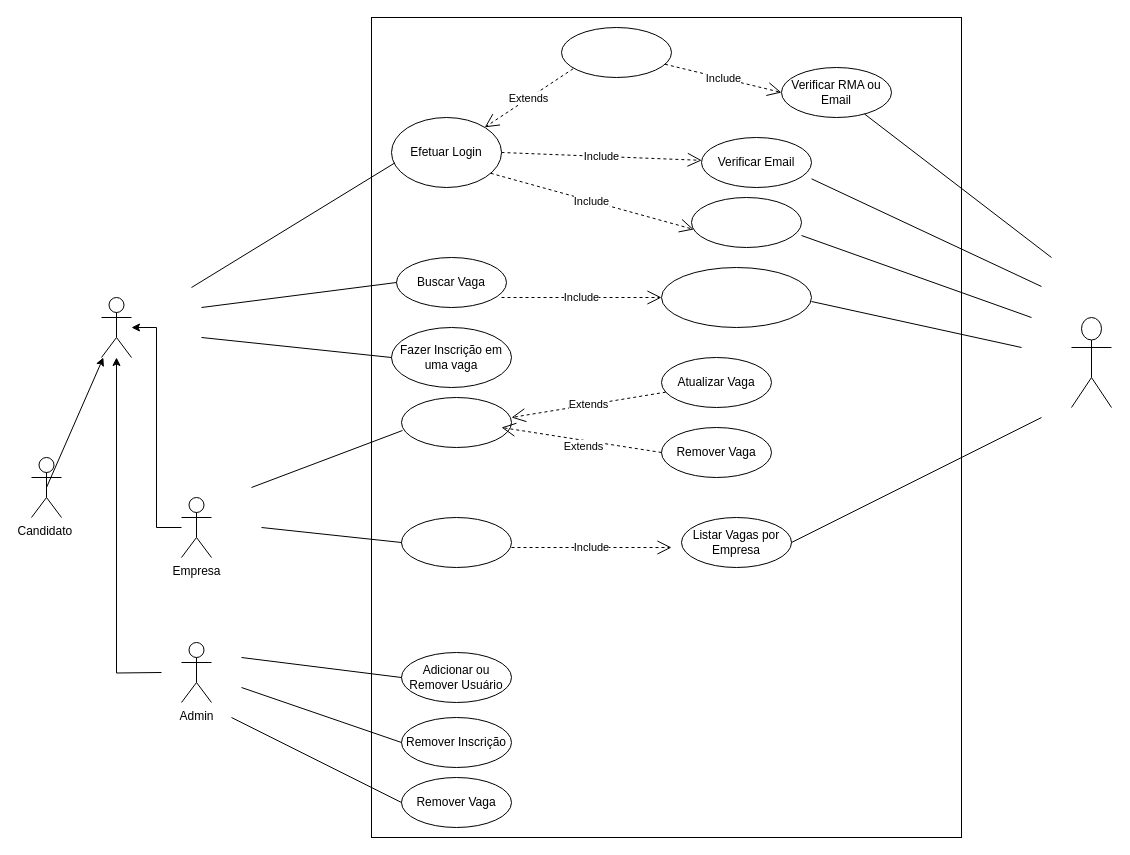
Image size: 1130x855. Some labels were removed from this diagram. Here are the shapes that lost their labels. From the top down, the box of each, then its label:
(560, 26, 672, 78): Cadastrar Usuário
(690, 196, 802, 248): Verificar Senha
(660, 266, 812, 328): Buscar por Nome, Descrição, Cidade...
(100, 296, 132, 358): Usuário
(1070, 316, 1112, 408): Sistema
(400, 396, 512, 448): Cadastrar Vaga
(400, 516, 512, 568): Listar Vagas
